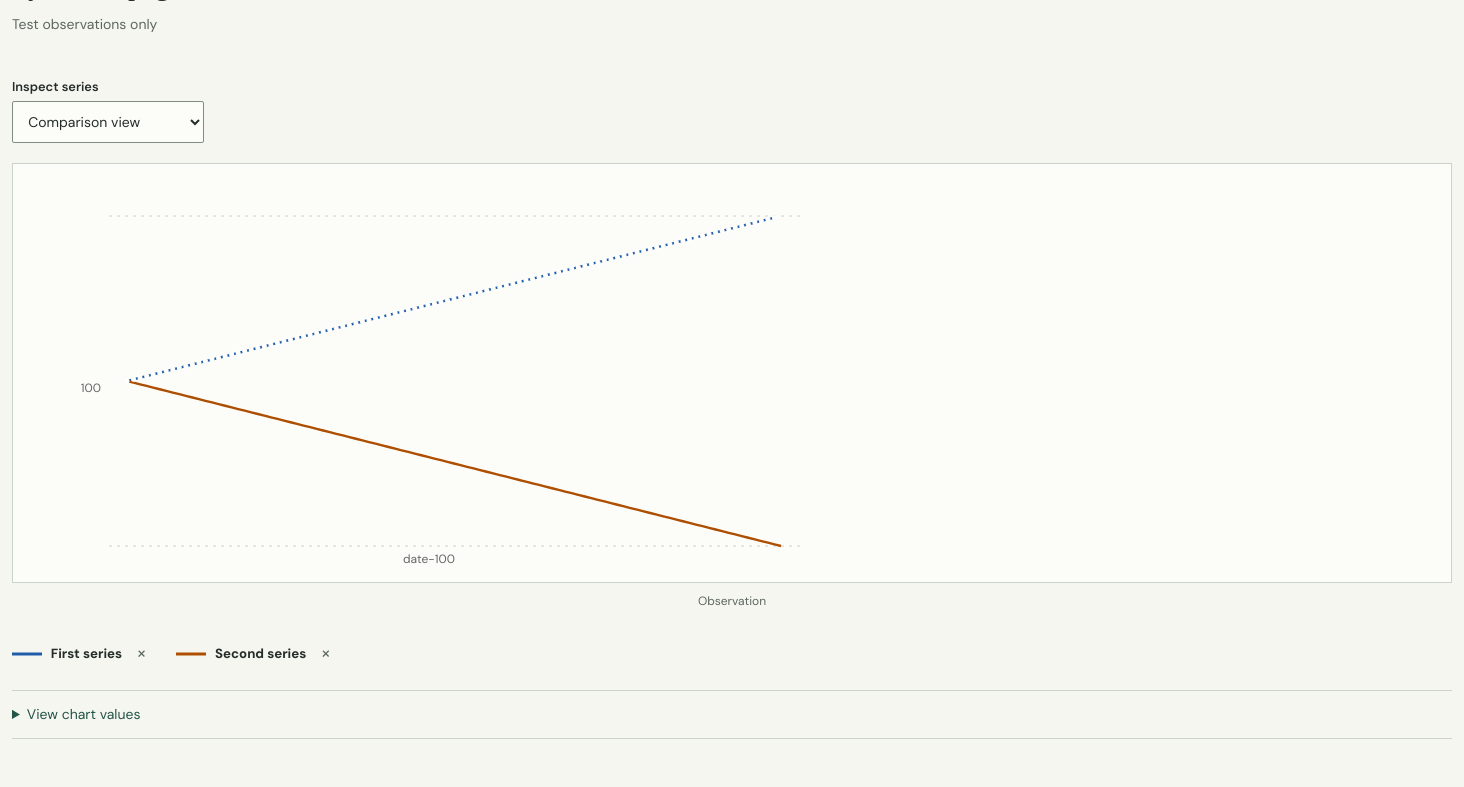
chart value pagination › resets pagination when the inspected series changes
This screenshot has width=1464, height=787.
(page scrolled)
Click the heading "View chart values". click: (84,714)
box: [27, 705, 140, 723]
(page scrolled)
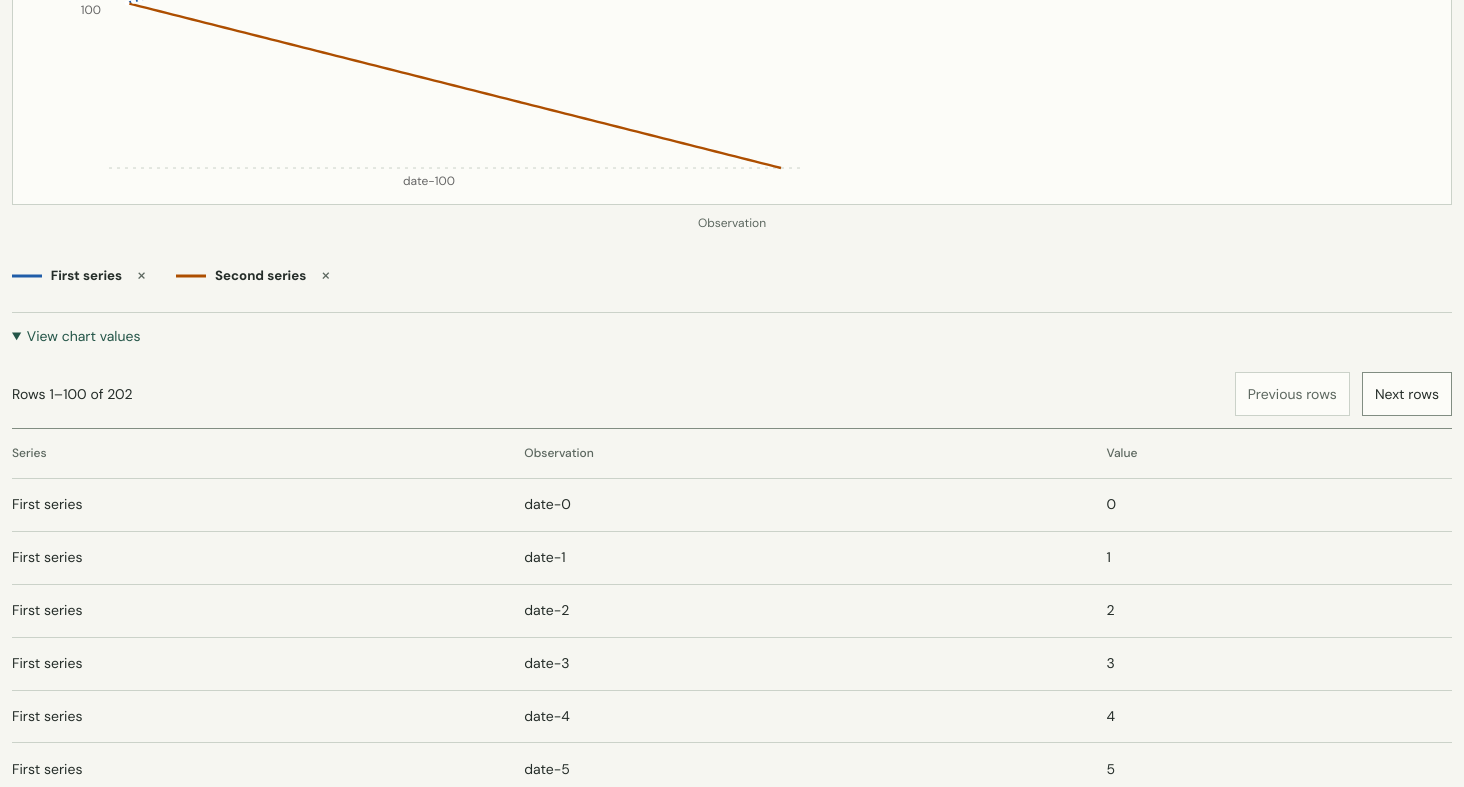
Click the button "Next rows". click: (1407,394)
box: [1362, 372, 1452, 416]
(page scrolled)
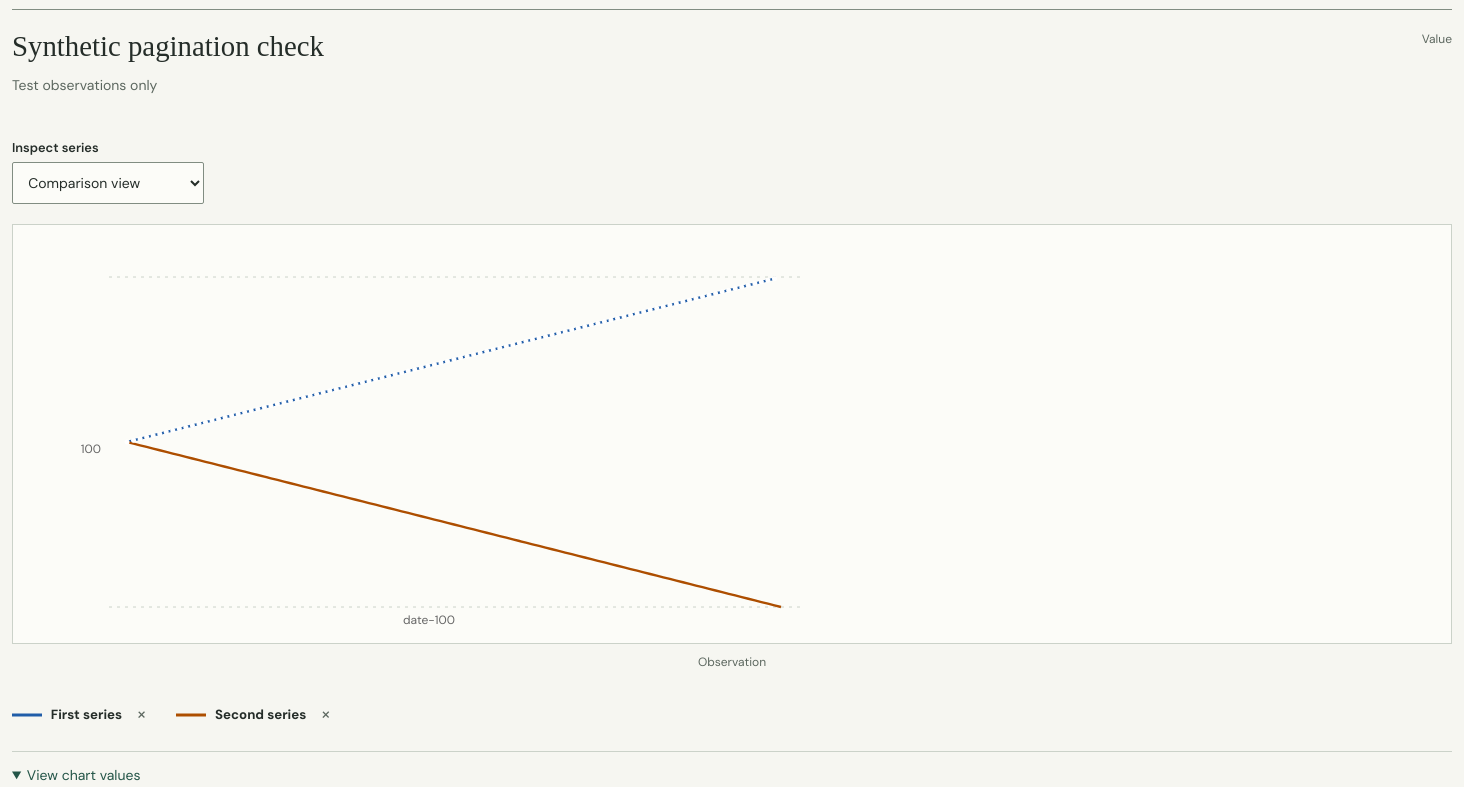
Select "Second series" in the dropdown labelled "Inspect series". click: (108,183)
box: [12, 162, 204, 204]
(page scrolled)
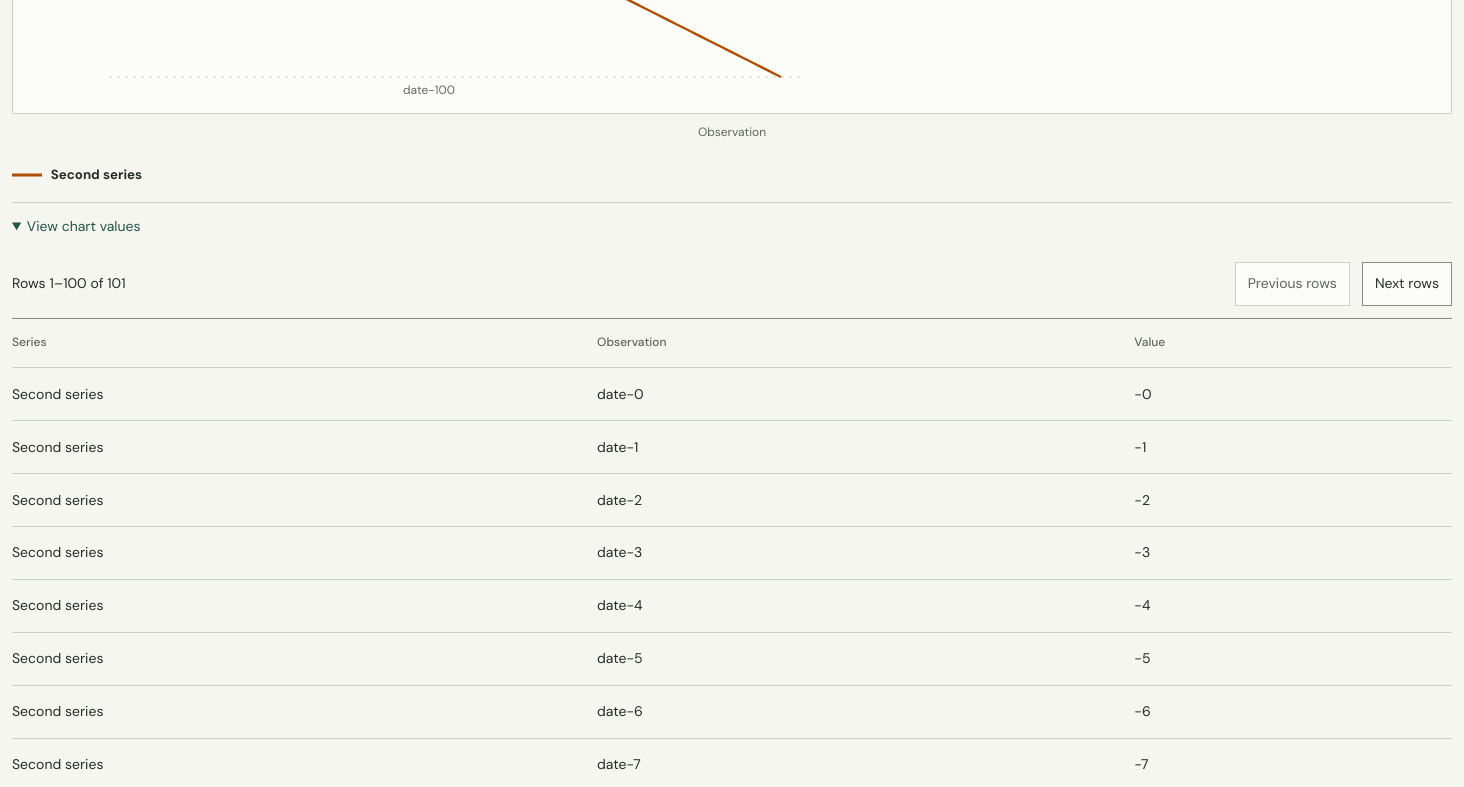
Expected: the message reads "Rows 1–100 of 101", [12, 272, 126, 295]
Expected: the text "First series" is gone
Expected: the row "Second series date-0 -0" is shown, [12, 368, 1452, 421]
